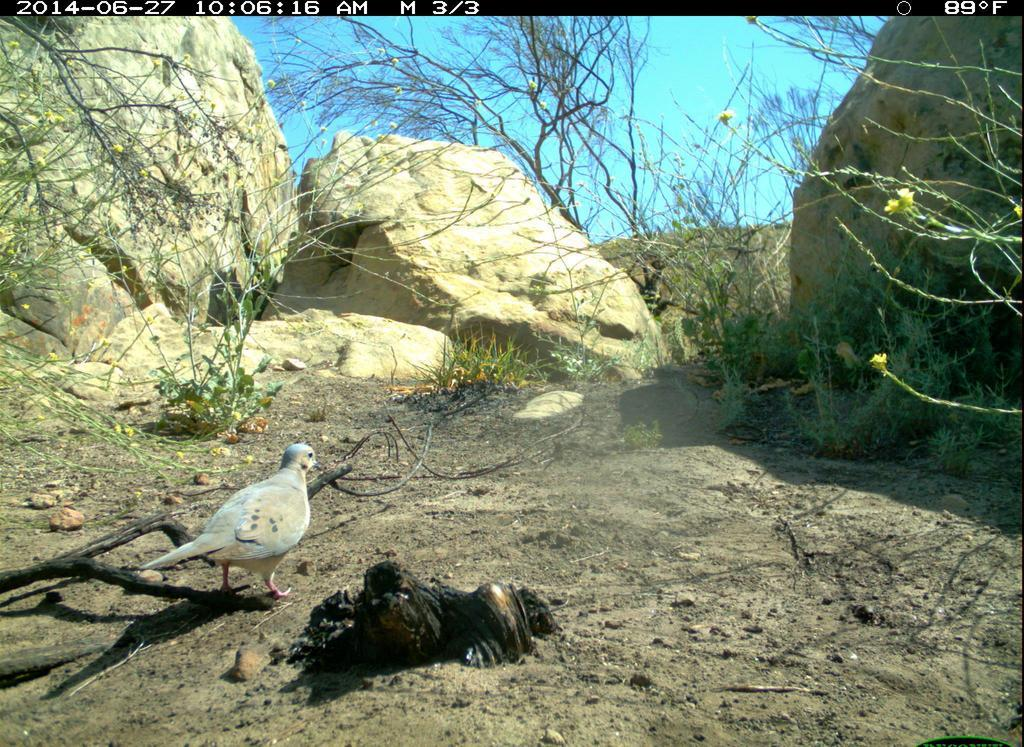bird: (137, 433, 325, 612)
